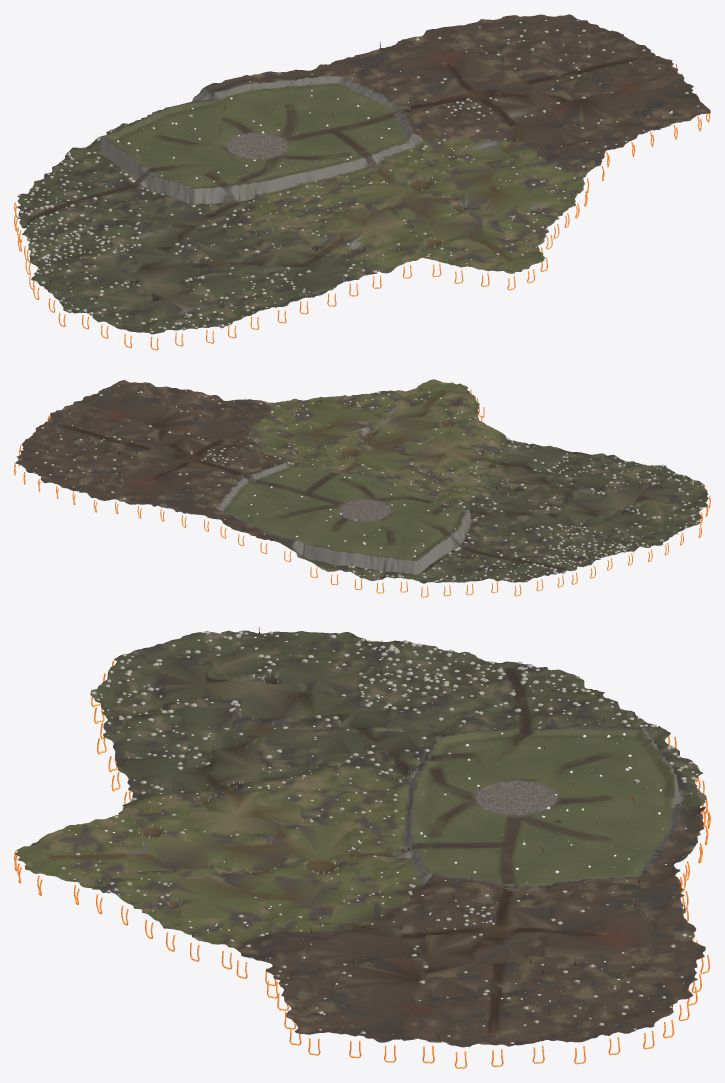
File: kaldum.glb
3 renders of one model, top to bottom at view 1: azimuth 30°, elevation 25°; view 2: azimuth 150°, elevation 25°; view 3: azimuth 270°, elevation 25°, orthographic. The views are drawn at different scales.
Visible parts, largest first — view 1: mo_sol_jeu, mo_agrafes_reunies, mo_sol_pave_0; view 2: mo_sol_jeu, mo_agrafes_reunies, mo_sol_pave_0; view 3: mo_sol_jeu, mo_agrafes_reunies, mo_sol_pave_0.
Boxes of the visible parts, bbox=[...] form: mo_sol_jeu: bbox=[17, 14, 710, 334]; mo_agrafes_reunies: bbox=[14, 62, 710, 350]; mo_sol_pave_0: bbox=[227, 133, 288, 158]; mo_sol_jeu: bbox=[15, 379, 708, 583]; mo_agrafes_reunies: bbox=[14, 389, 710, 597]; mo_sol_pave_0: bbox=[339, 499, 390, 521]; mo_sol_jeu: bbox=[15, 630, 706, 1047]; mo_agrafes_reunies: bbox=[14, 660, 710, 1068]; mo_sol_pave_0: bbox=[475, 780, 557, 815].
Size of the model in its own units: 377 by 23.82 by 246.
